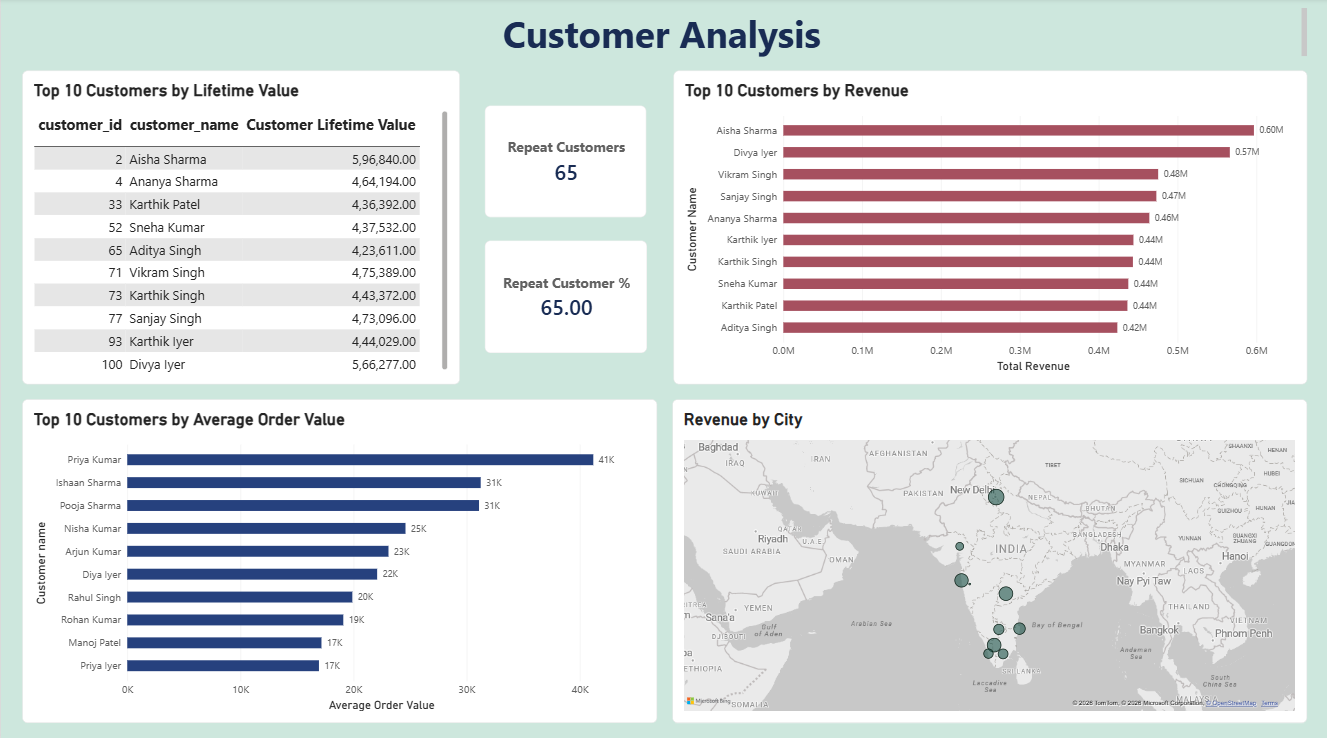

Layout of this report page (visuals, bound fields, positions):
{"tool":"powerbi","page":{"name":"Page 3","canvas":[1920,1080],"ordinal":2},"visuals":[{"type":"cardVisual","fields":{"Data":["customers.Repeat Customers"]},"box":[700.3,155.6,234.6,162.6],"z":0},{"type":"cardVisual","fields":{"Data":["customers.Repeat Customer %"]},"box":[700.3,351.1,235,163],"z":1000},{"type":"clusteredBarChart","title":"Top 10 Customers by Revenue","fields":{"Category":["customers.customer_name"],"Y":["order_items.Total Revenue"]},"box":[973.6,105,917.5,454.2],"z":2000},{"type":"map","title":"Revenue by City","fields":{"Category":["customers.city"],"Size":["order_items.Total Revenue"]},"box":[971.8,580.9,919.3,468.7],"z":3000},{"type":"tableEx","title":"Top 10 Customers by Lifetime Value","fields":{"Values":["customers.customer_id","customers.customer_name","customers.Customer Lifetime Value"]},"box":[30.8,105,633.4,454.2],"z":4000},{"type":"clusteredBarChart","title":"Top 10 Customers by Average Order Value","fields":{"Category":["customers.customer_name"],"Y":["orders.Average Order Value"]},"box":[30.8,580.9,919.3,468.7],"z":5000},{"type":"textbox","box":[30.8,14.5,1860.3,70.6],"z":6000}]}

Visuals, with their boxes in screenshot pixels (x1, y1, x2, y2), scaled from the page's 1920x1080 canvas onto the 1327x738 screenshot:
cardVisual - customers.Repeat Customers: <box>484,106,646,217</box>
cardVisual - customers.Repeat Customer %: <box>484,240,646,351</box>
"Top 10 Customers by Revenue" clusteredBarChart: <box>673,72,1307,382</box>
"Revenue by City" map: <box>672,397,1307,717</box>
"Top 10 Customers by Lifetime Value" tableEx: <box>21,72,459,382</box>
"Top 10 Customers by Average Order Value" clusteredBarChart: <box>21,397,657,717</box>
textbox: <box>21,10,1307,58</box>
